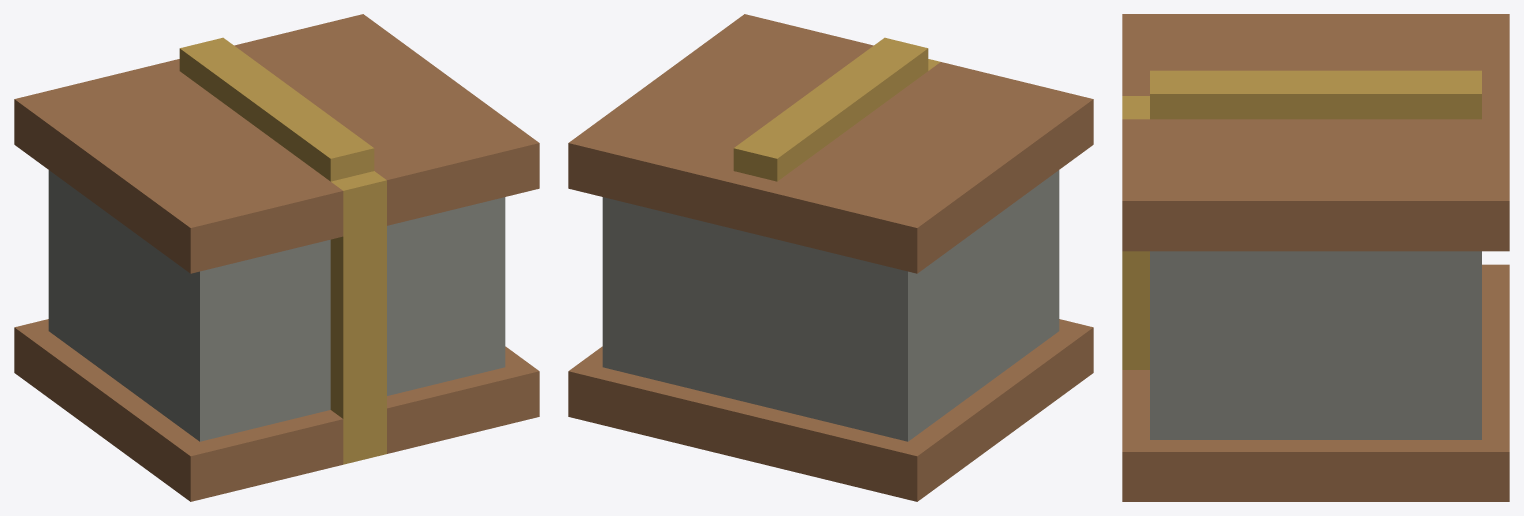
File: manufacturing-13.glb
The picture shows the model from 3 angles, left to right: view 1: azimuth 30°, elevation 25°; view 2: azimuth 150°, elevation 25°; view 3: azimuth 270°, elevation 25°; orthographic projection. The views are drawn at different scales.
Visible parts, largest first — view 1: Materials pallet; view 2: Materials pallet; view 3: Materials pallet.
Boxes of the visible parts, x1,y1,x2,y2 form: Materials pallet: (14, 14, 539, 501); Materials pallet: (568, 14, 1093, 501); Materials pallet: (1122, 14, 1509, 501).
Size of the model in its own units: 1.28 by 1.04 by 1.12.
